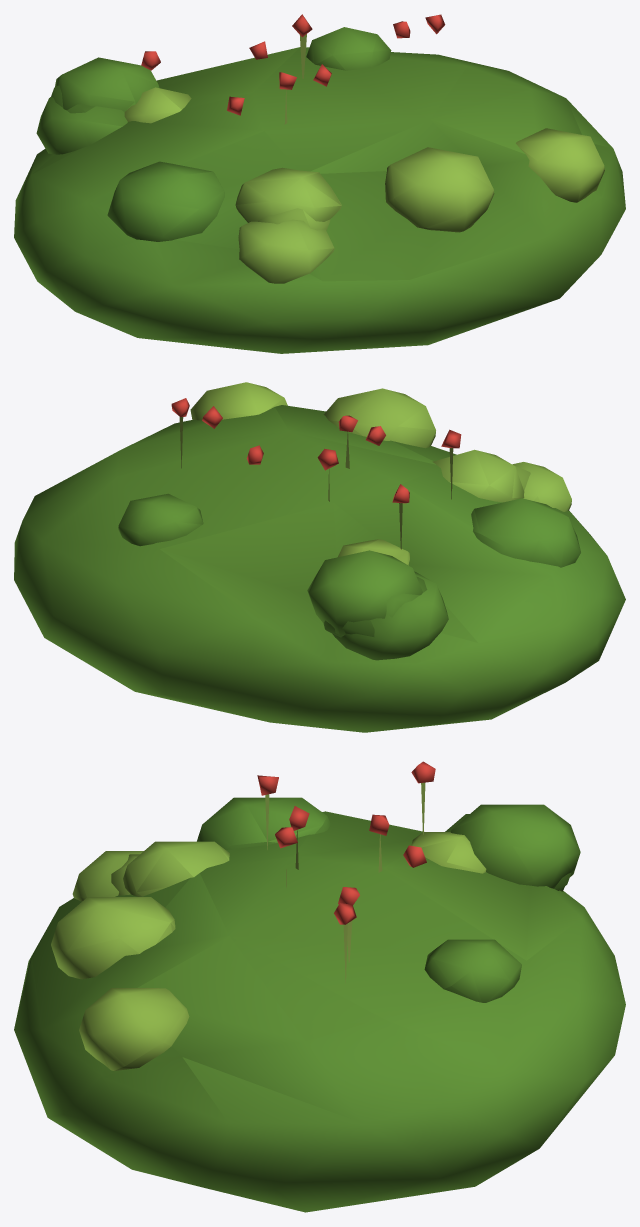
File: glade_moss_mound_lod1.glb
3 renders of one model, top to bottom at view 1: azimuth 30°, elevation 25°; view 2: azimuth 150°, elevation 25°; view 3: azimuth 270°, elevation 25°, orthographic. The views are drawn at different scales.
Visible parts, largest first — view 1: glade_moss_mound.001; view 2: glade_moss_mound.001; view 3: glade_moss_mound.001.
Boxes of the visible parts, left/top/right/bottom form: glade_moss_mound.001: left=14, top=14, right=625, bottom=353; glade_moss_mound.001: left=14, top=382, right=625, bottom=732; glade_moss_mound.001: left=14, top=761, right=625, bottom=1212.
Bounding box in the file's own units: 6.74 × 2.99 × 5.69.
